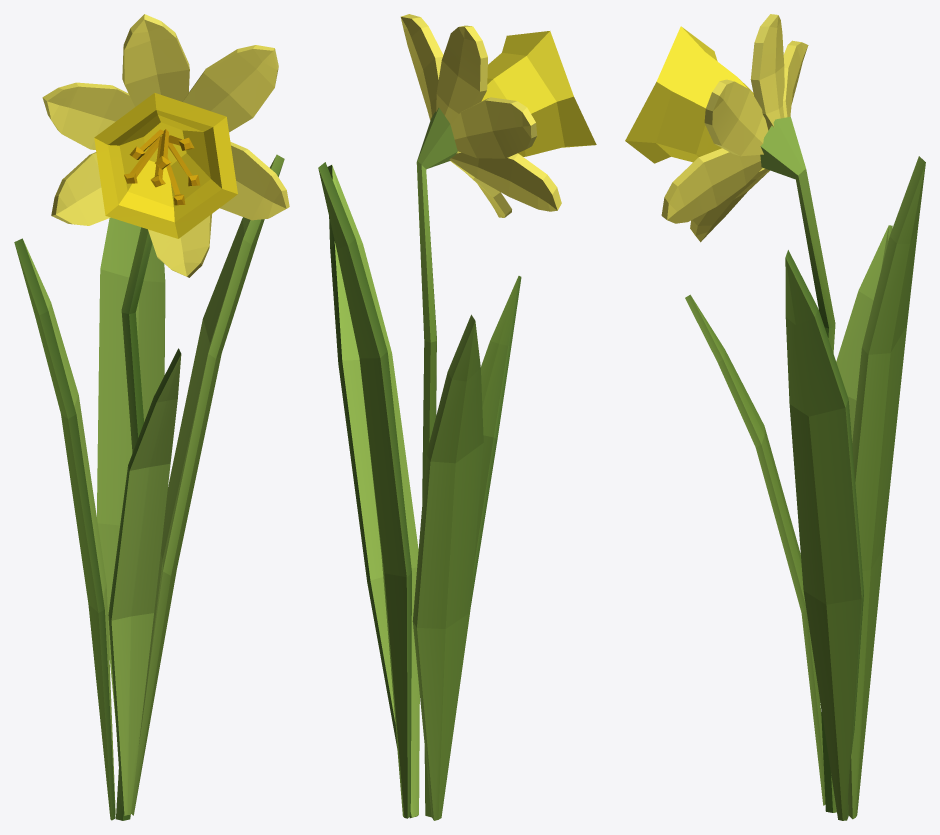
File: Daffodil.glb
3 renders of one model, left to right at view 1: azimuth 30°, elevation 25°; view 2: azimuth 150°, elevation 25°; view 3: azimuth 270°, elevation 25°, orthographic. The views are drawn at different scales.
Parts seen in each view (by area): view 1: Daffodil; view 2: Daffodil; view 3: Daffodil.
Part boxes in pixels (x1,y1,x2,y2): Daffodil: (14, 14, 289, 820); Daffodil: (318, 14, 596, 820); Daffodil: (625, 14, 925, 820).
Bounding box in the file's own units: 1.46 × 4.82 × 1.65.
1 material, 1 textured.
